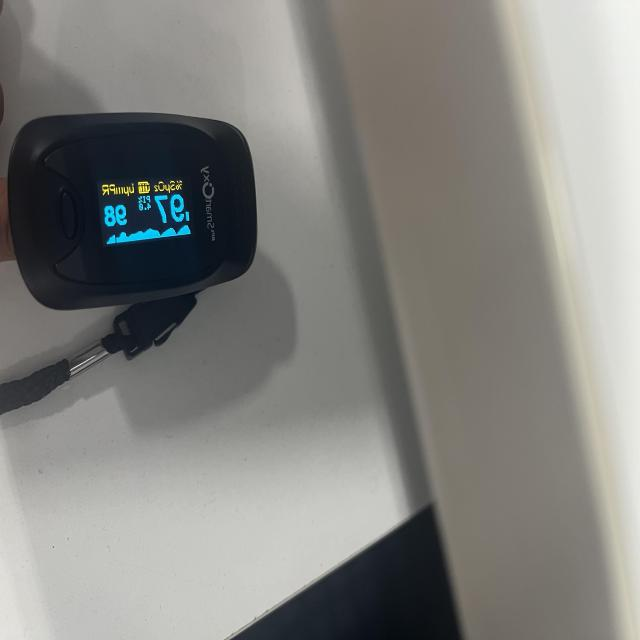spo2: (6, 113, 258, 313)
